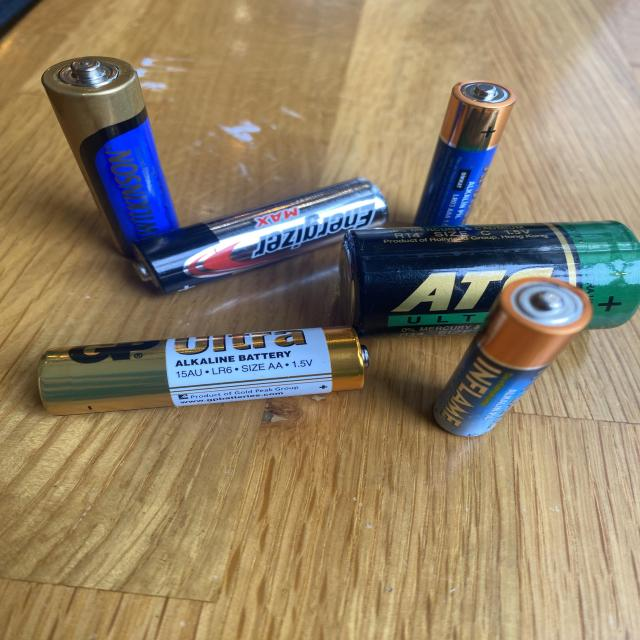AA: (31, 322, 377, 418), (130, 172, 393, 298), (38, 52, 184, 259), (432, 275, 596, 439), (407, 77, 519, 228)
